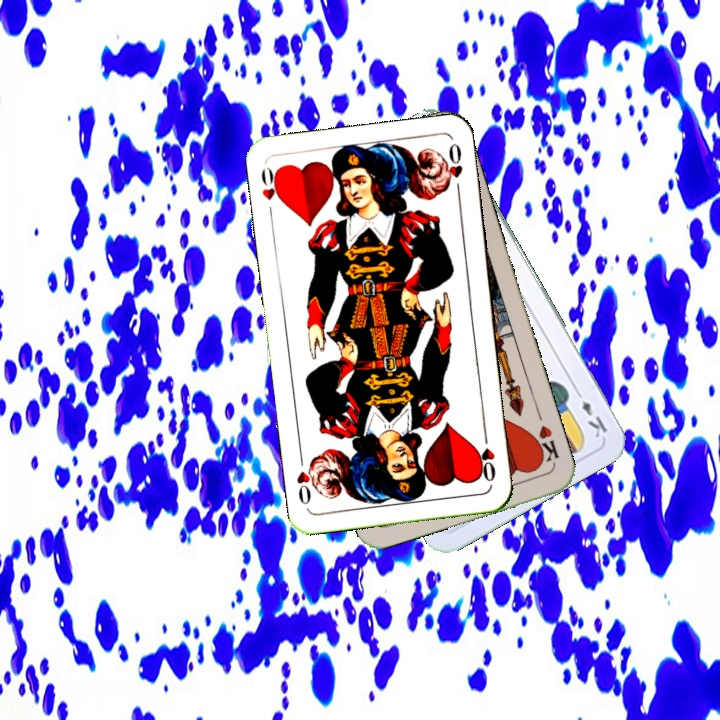EK: (570, 384, 610, 441)
HK: (528, 421, 562, 467)
HO: (257, 163, 285, 220), (475, 427, 499, 484)
